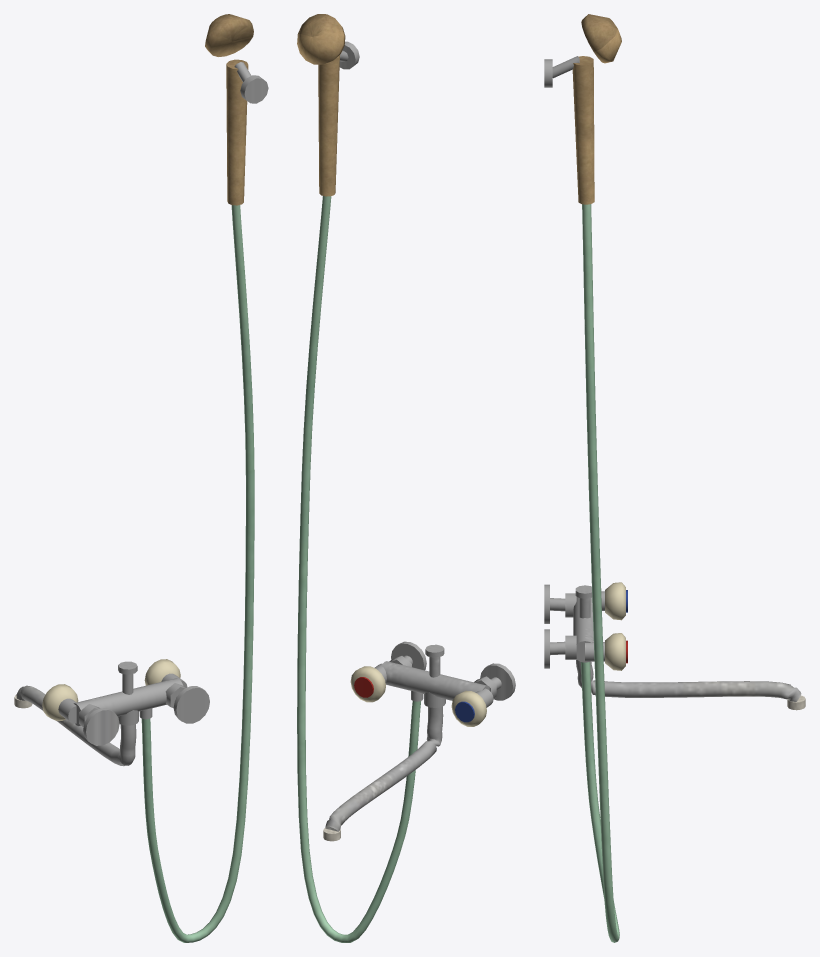
File: faucet_bath_shower_web.glb
3 views of the same model, side by side, from view 1: azimuth 30°, elevation 25°; view 2: azimuth 150°, elevation 25°; view 3: azimuth 270°, elevation 25° (orthographic). The views are drawn at different scales.
Visible parts, largest first — view 1: Chrome_Shower, Chrome_FaucetBath, Chrome_Spout; view 2: Chrome_Shower, Chrome_FaucetBath, Chrome_Spout; view 3: Chrome_Shower, Chrome_FaucetBath, Chrome_Spout.
Part boxes in pixels (x1,y1,x2,y2): Chrome_Shower: (141, 14, 268, 942); Chrome_FaucetBath: (42, 659, 209, 745); Chrome_Spout: (14, 685, 138, 766); Chrome_Shower: (297, 14, 420, 942); Chrome_FaucetBath: (350, 641, 515, 726); Chrome_Spout: (323, 692, 445, 841); Chrome_Shower: (544, 14, 621, 942); Chrome_FaucetBath: (544, 582, 627, 670); Chrome_Spout: (576, 660, 805, 710).
Bounding box in the file's own units: 0.3307 × 1.47 × 0.371.
7 materials, 7 textured.
